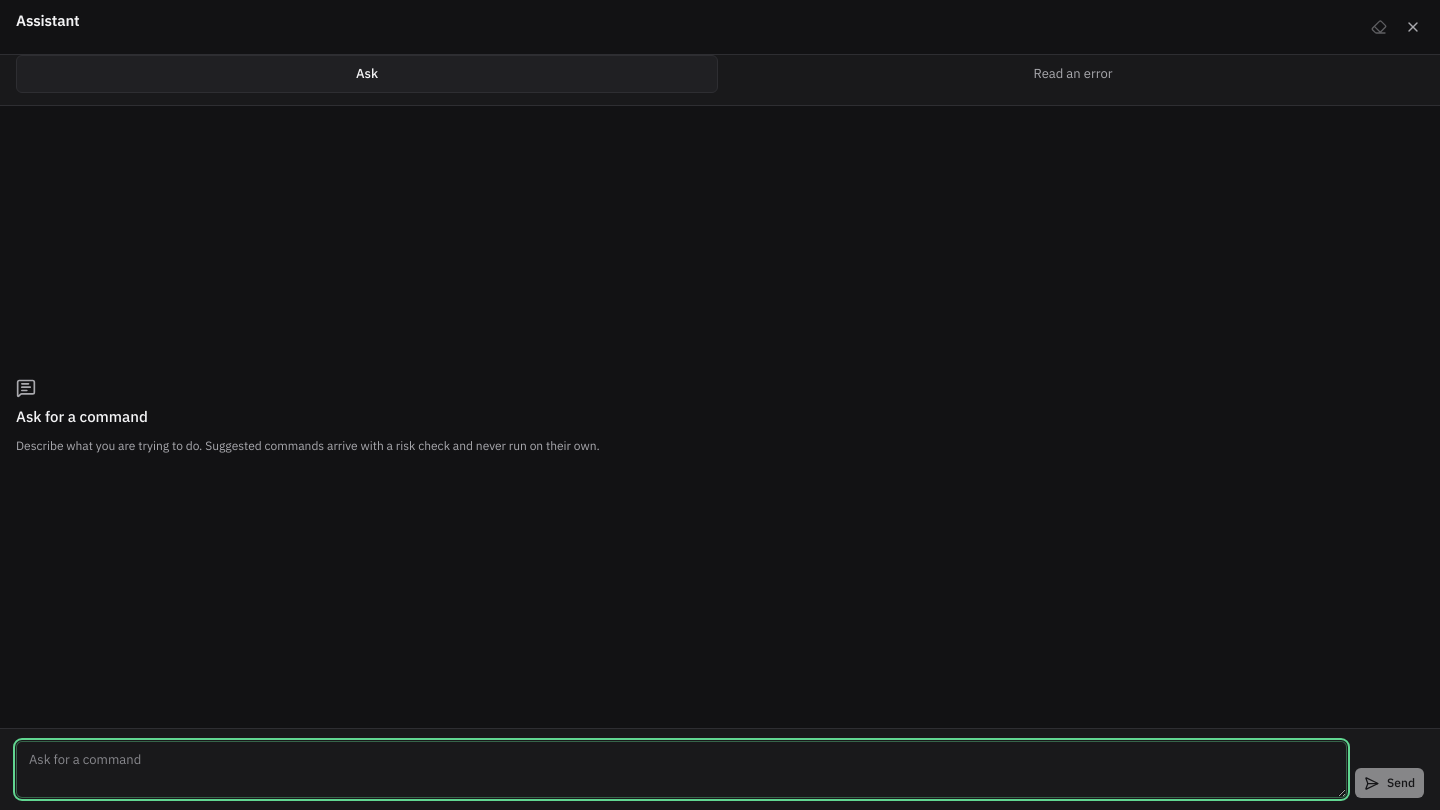
Scenario: AssistantDock › clears the conversation on request
In the text box named "Message the assistant": (682, 770) [16,741,1347,798], type "how do I free disk space?"
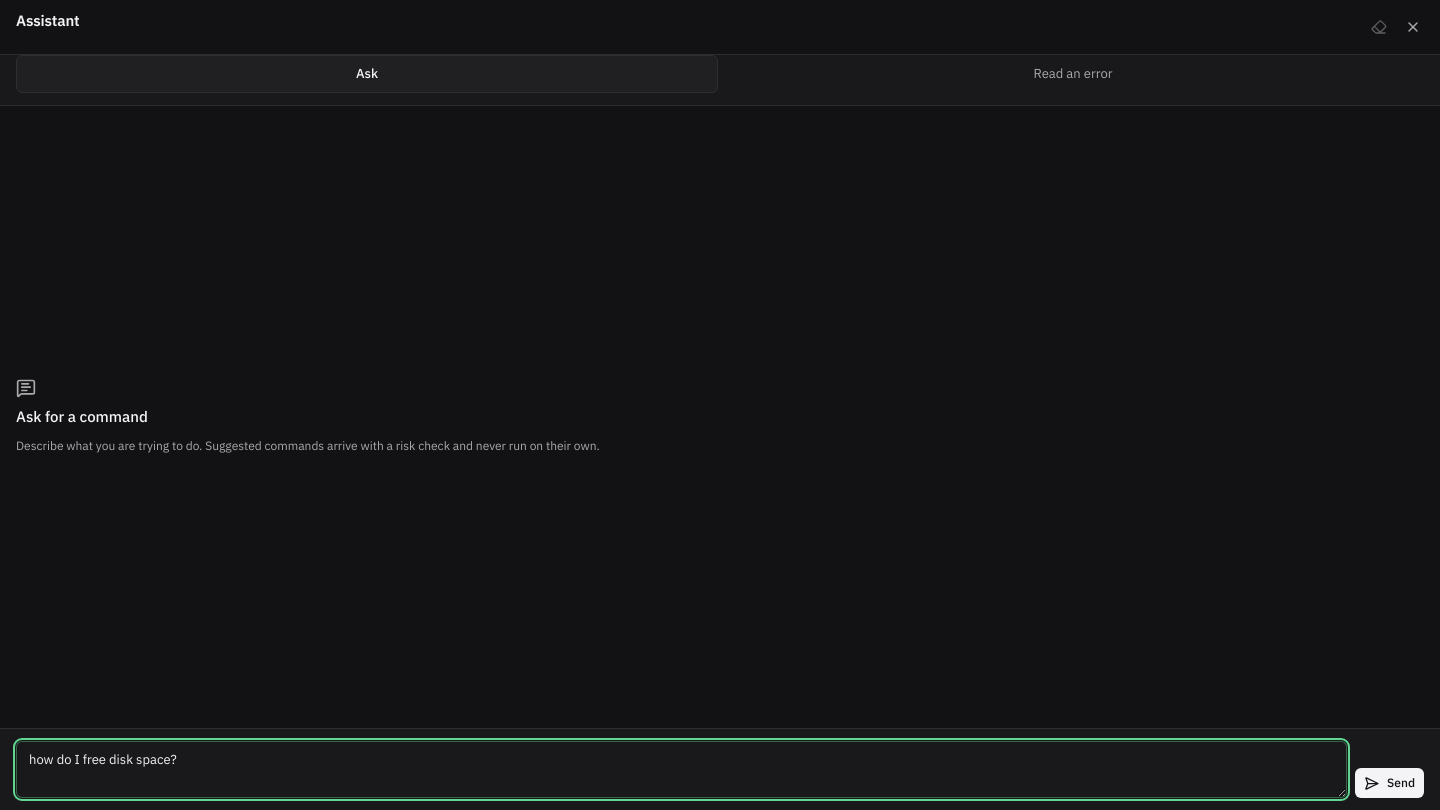
Click the button "Send": (1390, 783) [1355,768,1424,798]
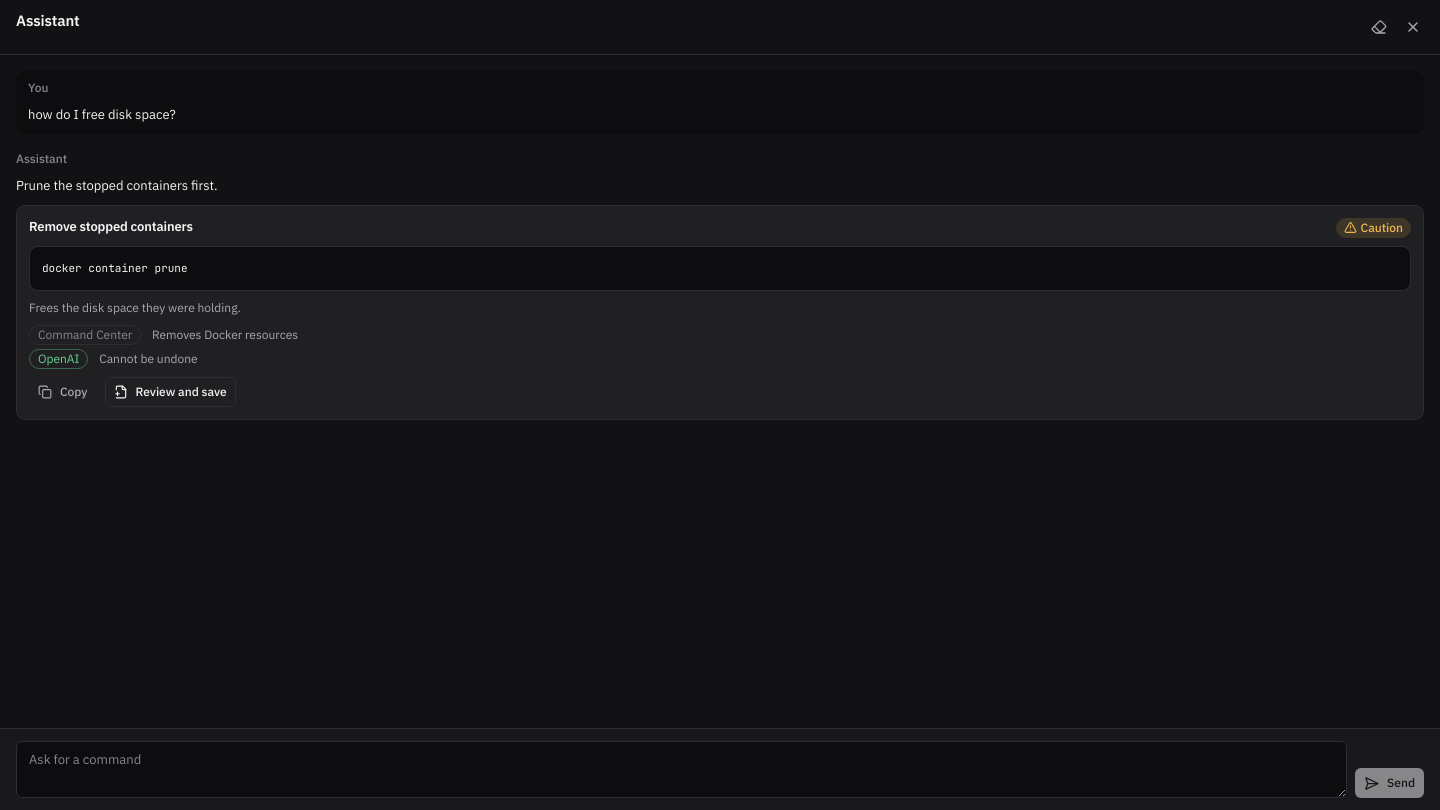
Check: the text "Prune the stopped containers first." is shown, box [16,177,218,194]
Click the button named "Clear conversation": (1379, 27) [1364,12,1394,42]
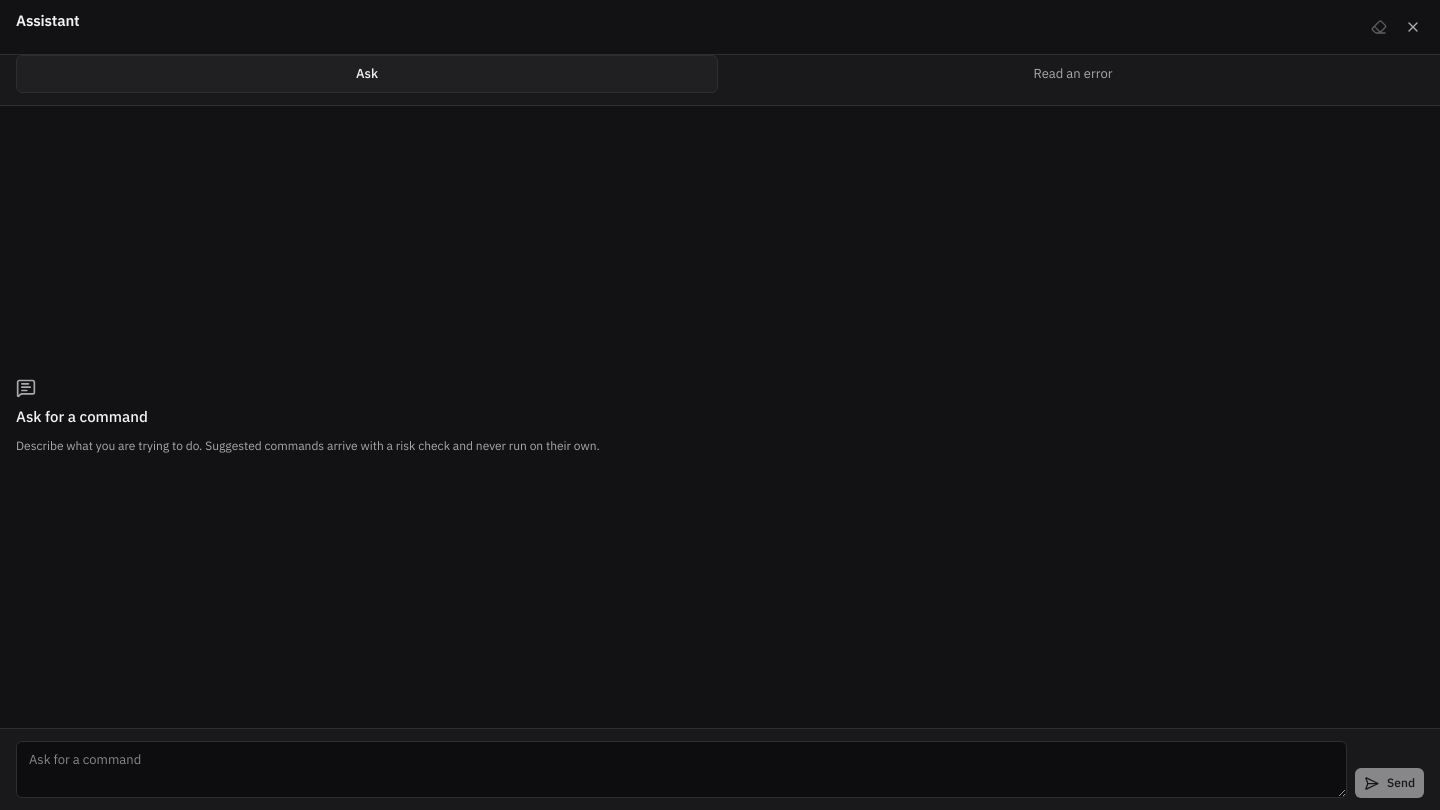
Check: the text "Prune the stopped containers first." is gone
Check: the text "Ask for a command" is shown, box [16,407,148,426]
